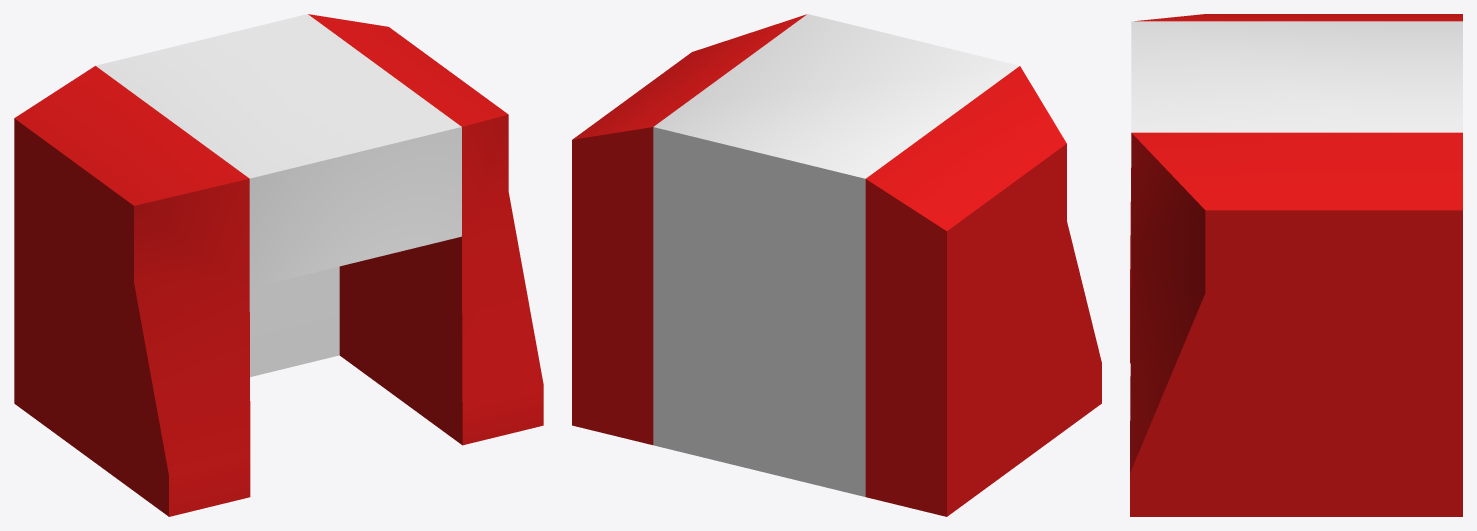
Rendered from helmet.FBX.
3 renders of one model, left to right at view 1: azimuth 30°, elevation 25°; view 2: azimuth 150°, elevation 25°; view 3: azimuth 270°, elevation 25°, orthographic. The views are drawn at different scales.
Parts seen in each view (by area): view 1: helmet; view 2: helmet; view 3: helmet.
Boxes of the visible parts, x1,y1,x2,y2 form: helmet: (14, 14, 543, 516); helmet: (572, 14, 1101, 516); helmet: (1130, 14, 1462, 516).
Bounding box in the file's own units: 45.44 × 36.87 × 32.54.
